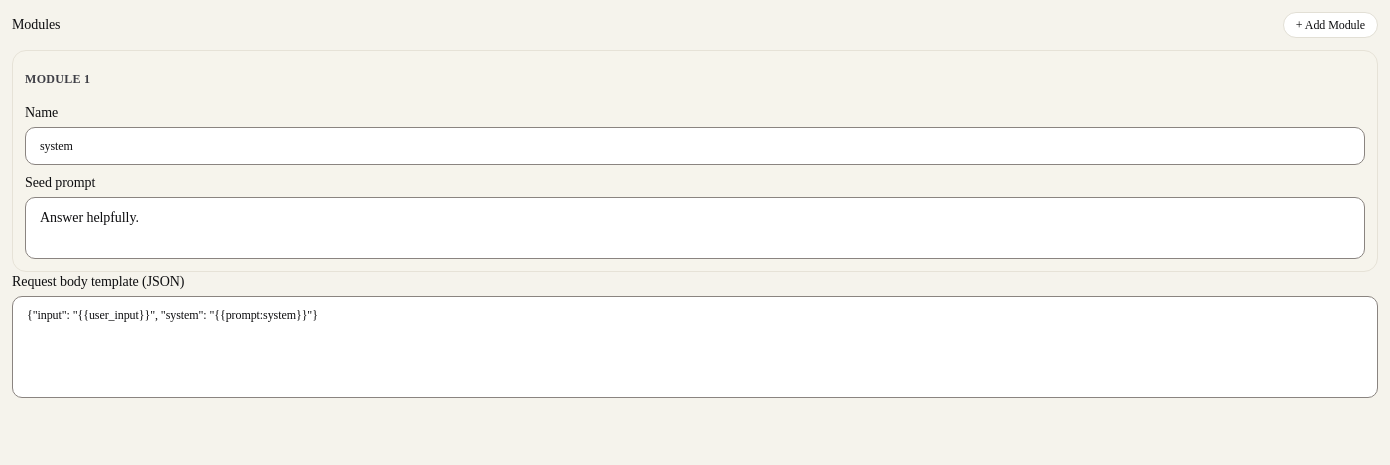
it: ModulesEditor › shows the live hint when a declared Module isn't referenced in the template
This screenshot has width=1390, height=465.
Step 1. Replace the text in the field named "Module 1 name" with "tone" → (695, 146), box x1=25 y1=127 x2=1365 y2=165
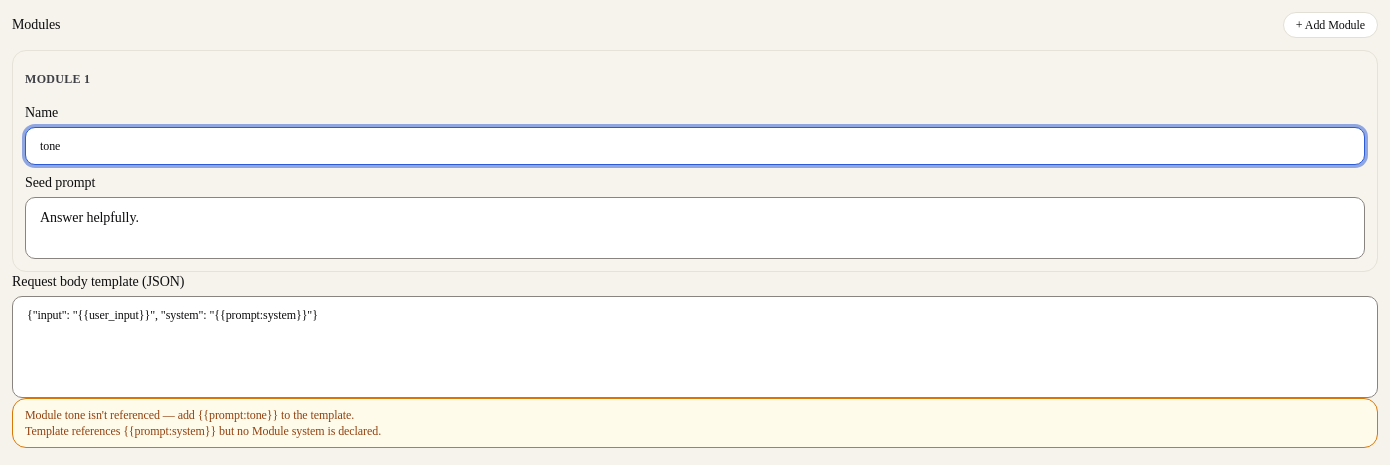
Result: the text "but no" is shown at x1=216 y1=424 x2=292 y2=438
Result: the text "isn't referenced" is shown at x1=85 y1=408 x2=198 y2=422
